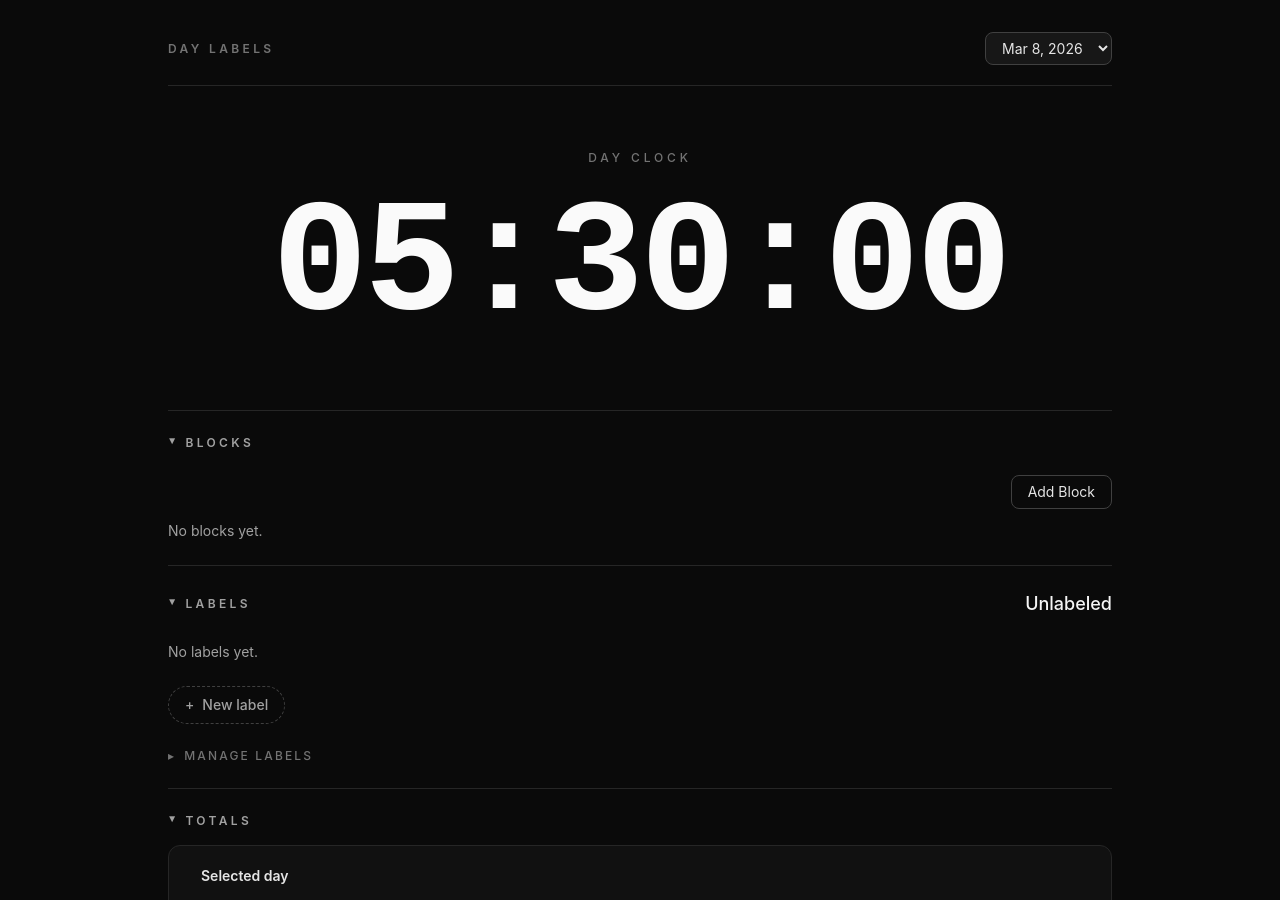
Test: Blocks › shows a live duration for the ongoing Block
Step 1. Click the button "+ New label" → point(227, 705), box [168, 686, 285, 724]
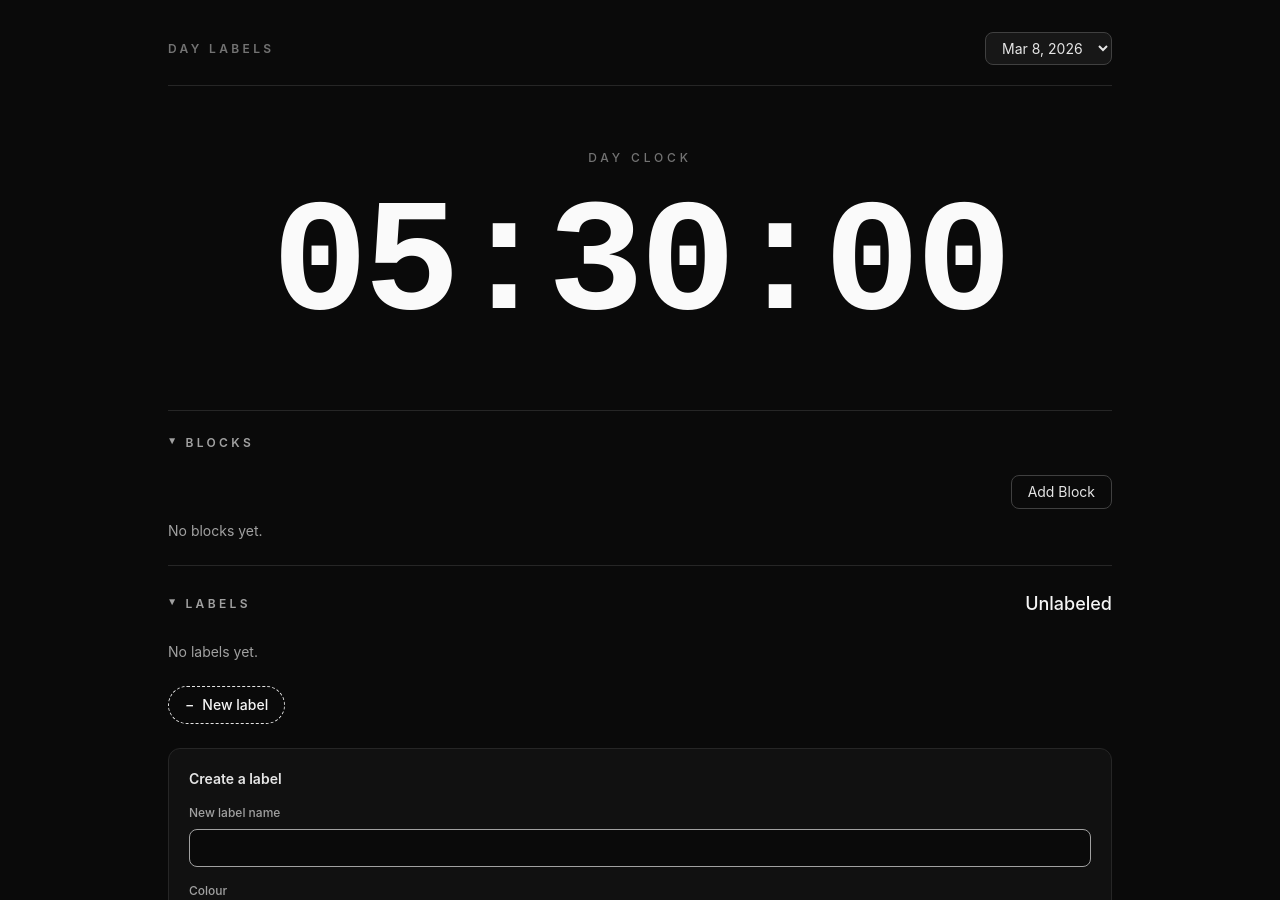
Step 2. Type "Work" into the field labelled "New label name" → point(640, 848), box [189, 829, 1091, 867]
(page scrolled)
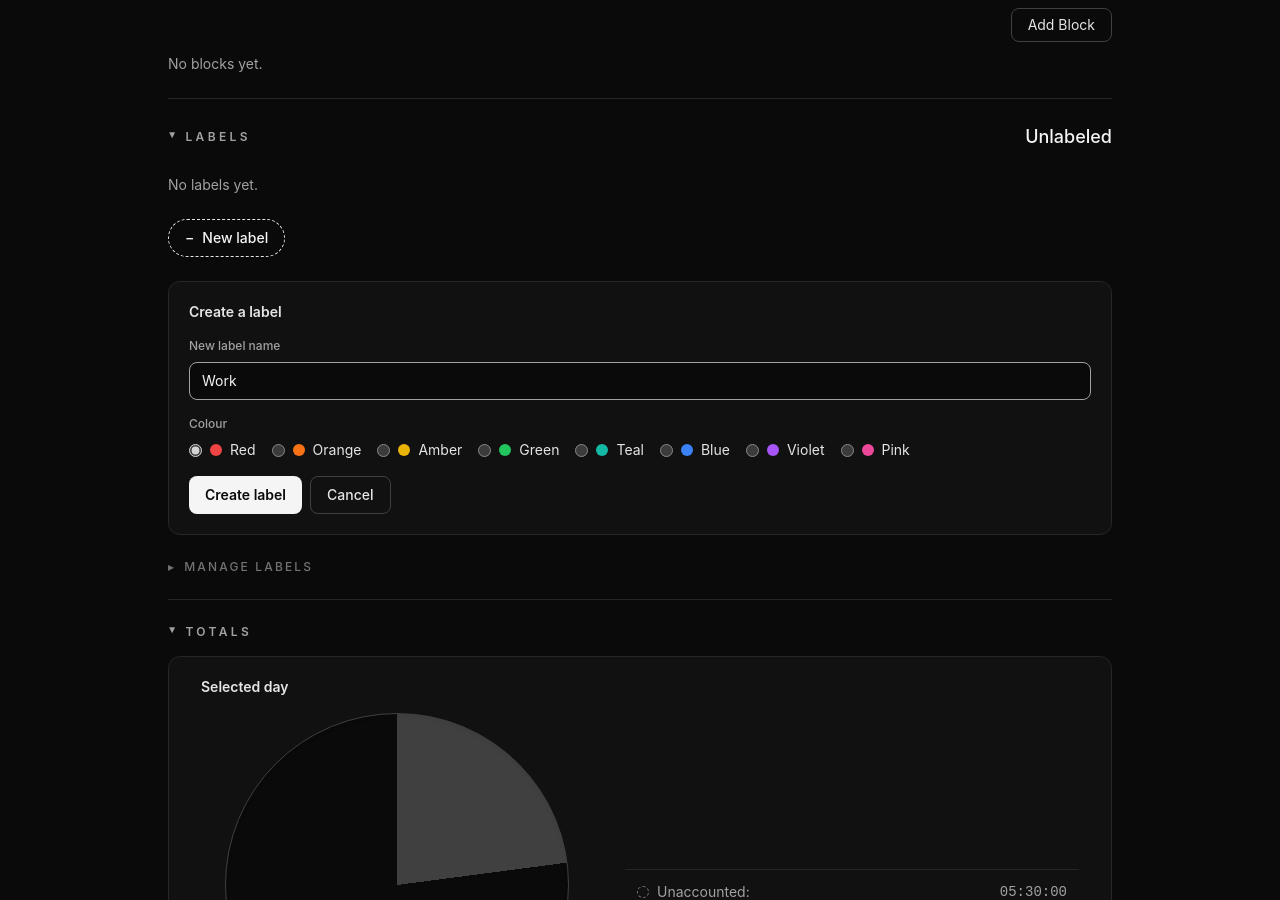
Step 3. Click the radio button labelled "Blue" → point(666, 450), box [660, 444, 673, 456]
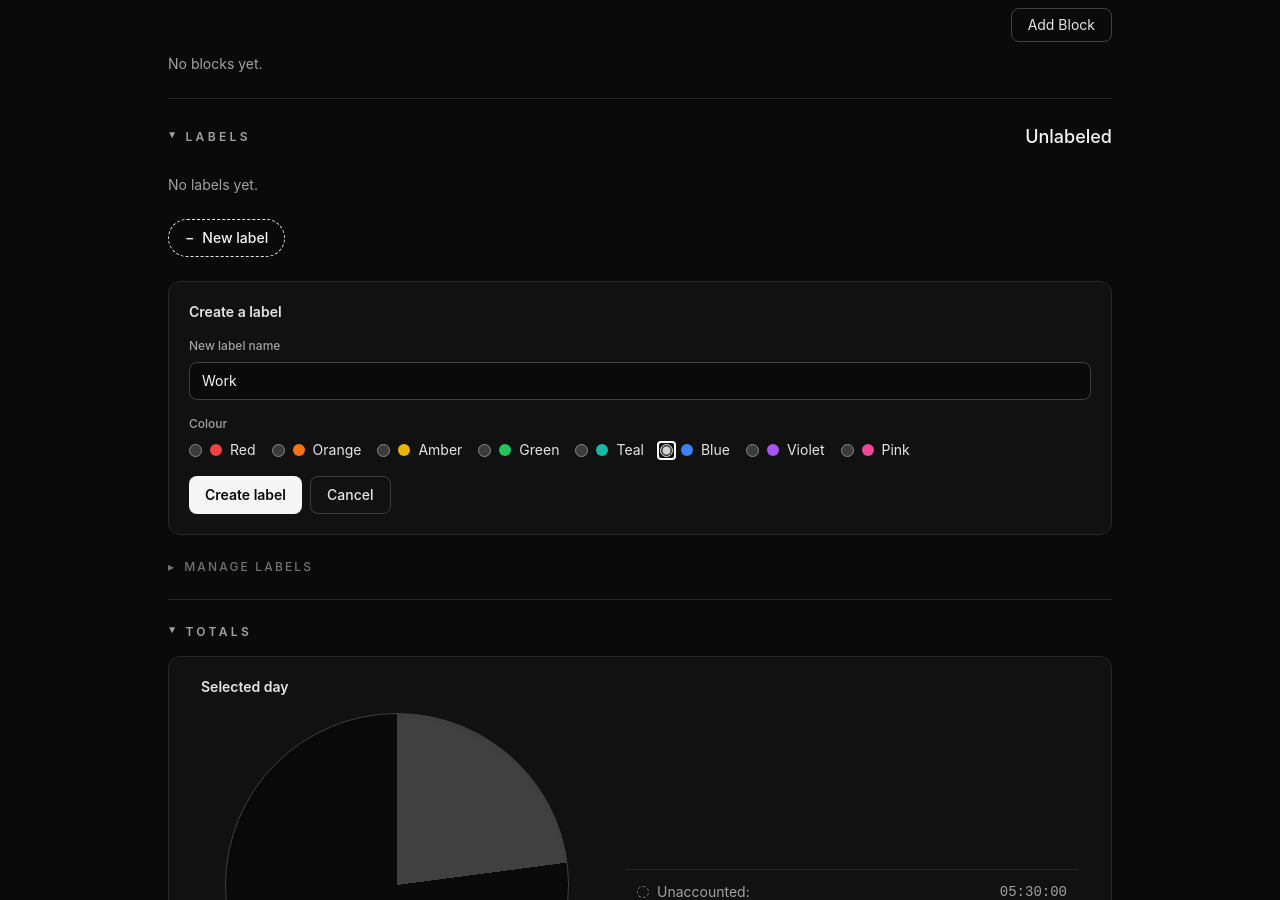
Step 4. Click the button "Create label" → point(246, 495), box [189, 476, 302, 514]
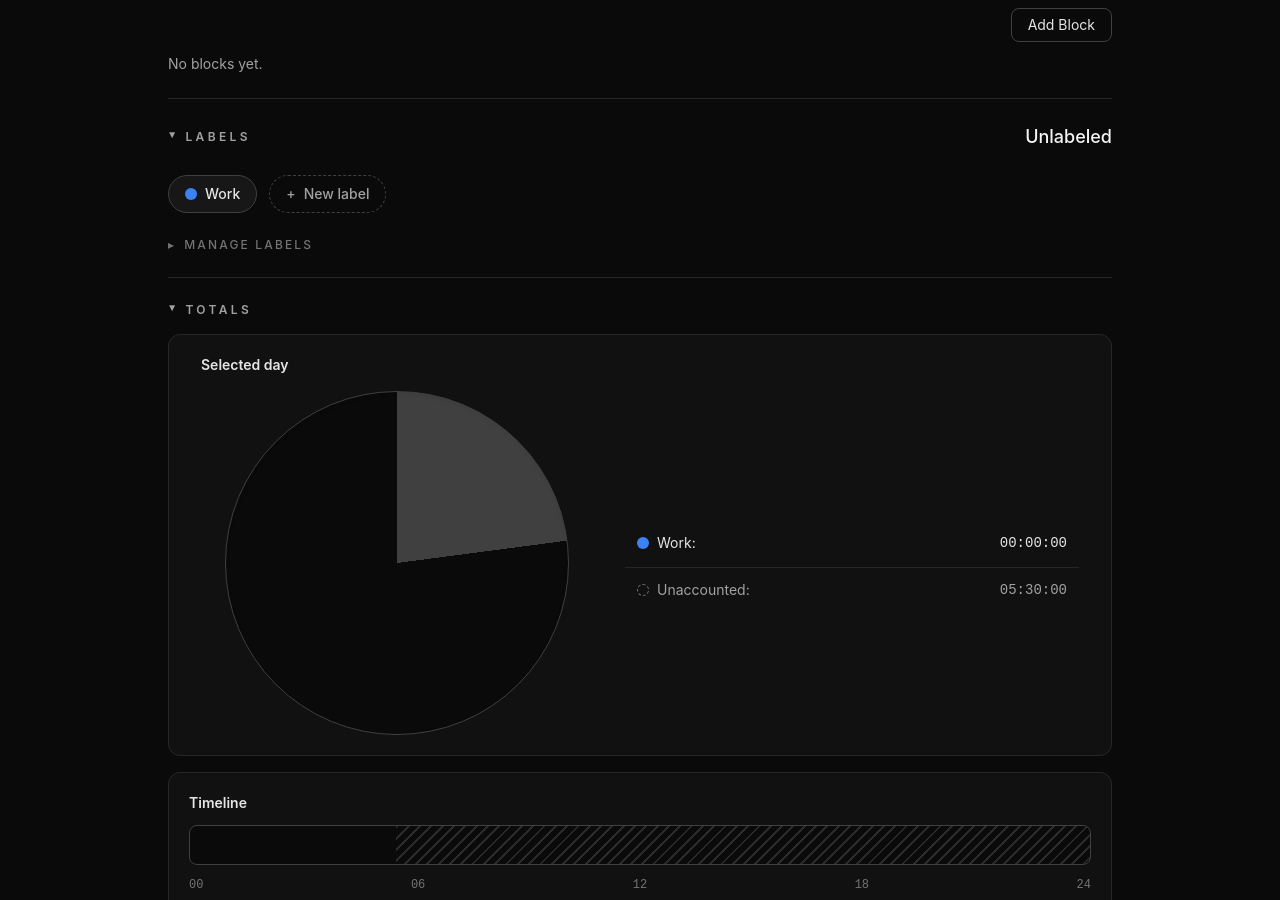
Step 5. Click the button "Work" → point(213, 194), box [168, 175, 257, 213]
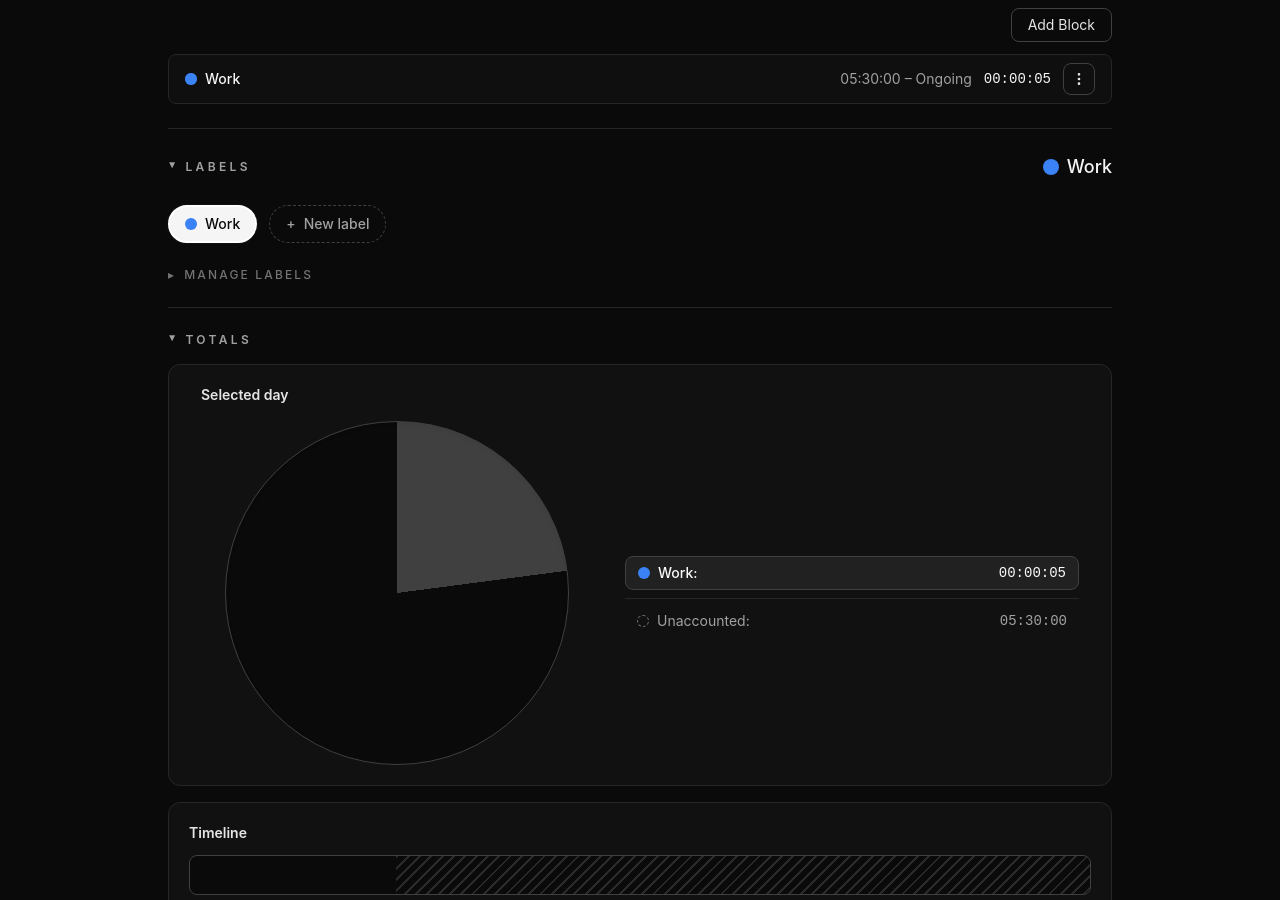
Expected: the list item "Work 05:30:00 – Ongoing 00:00:05" is shown, [168, 54, 1112, 104]
